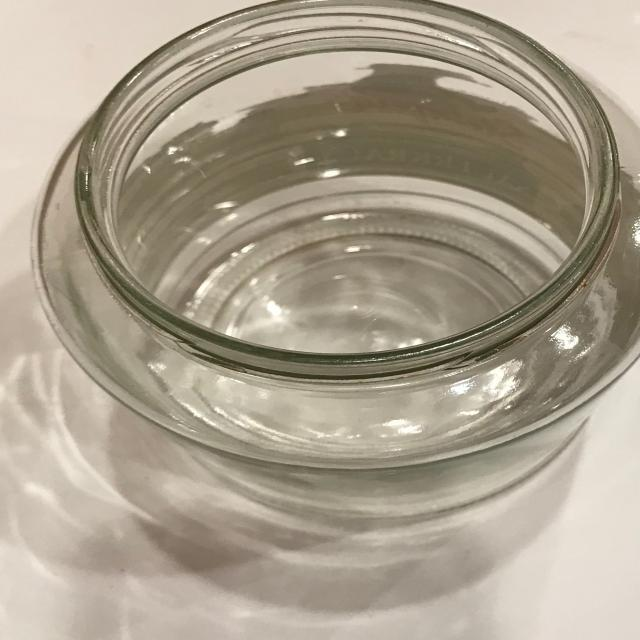glass: (32, 1, 640, 474)
